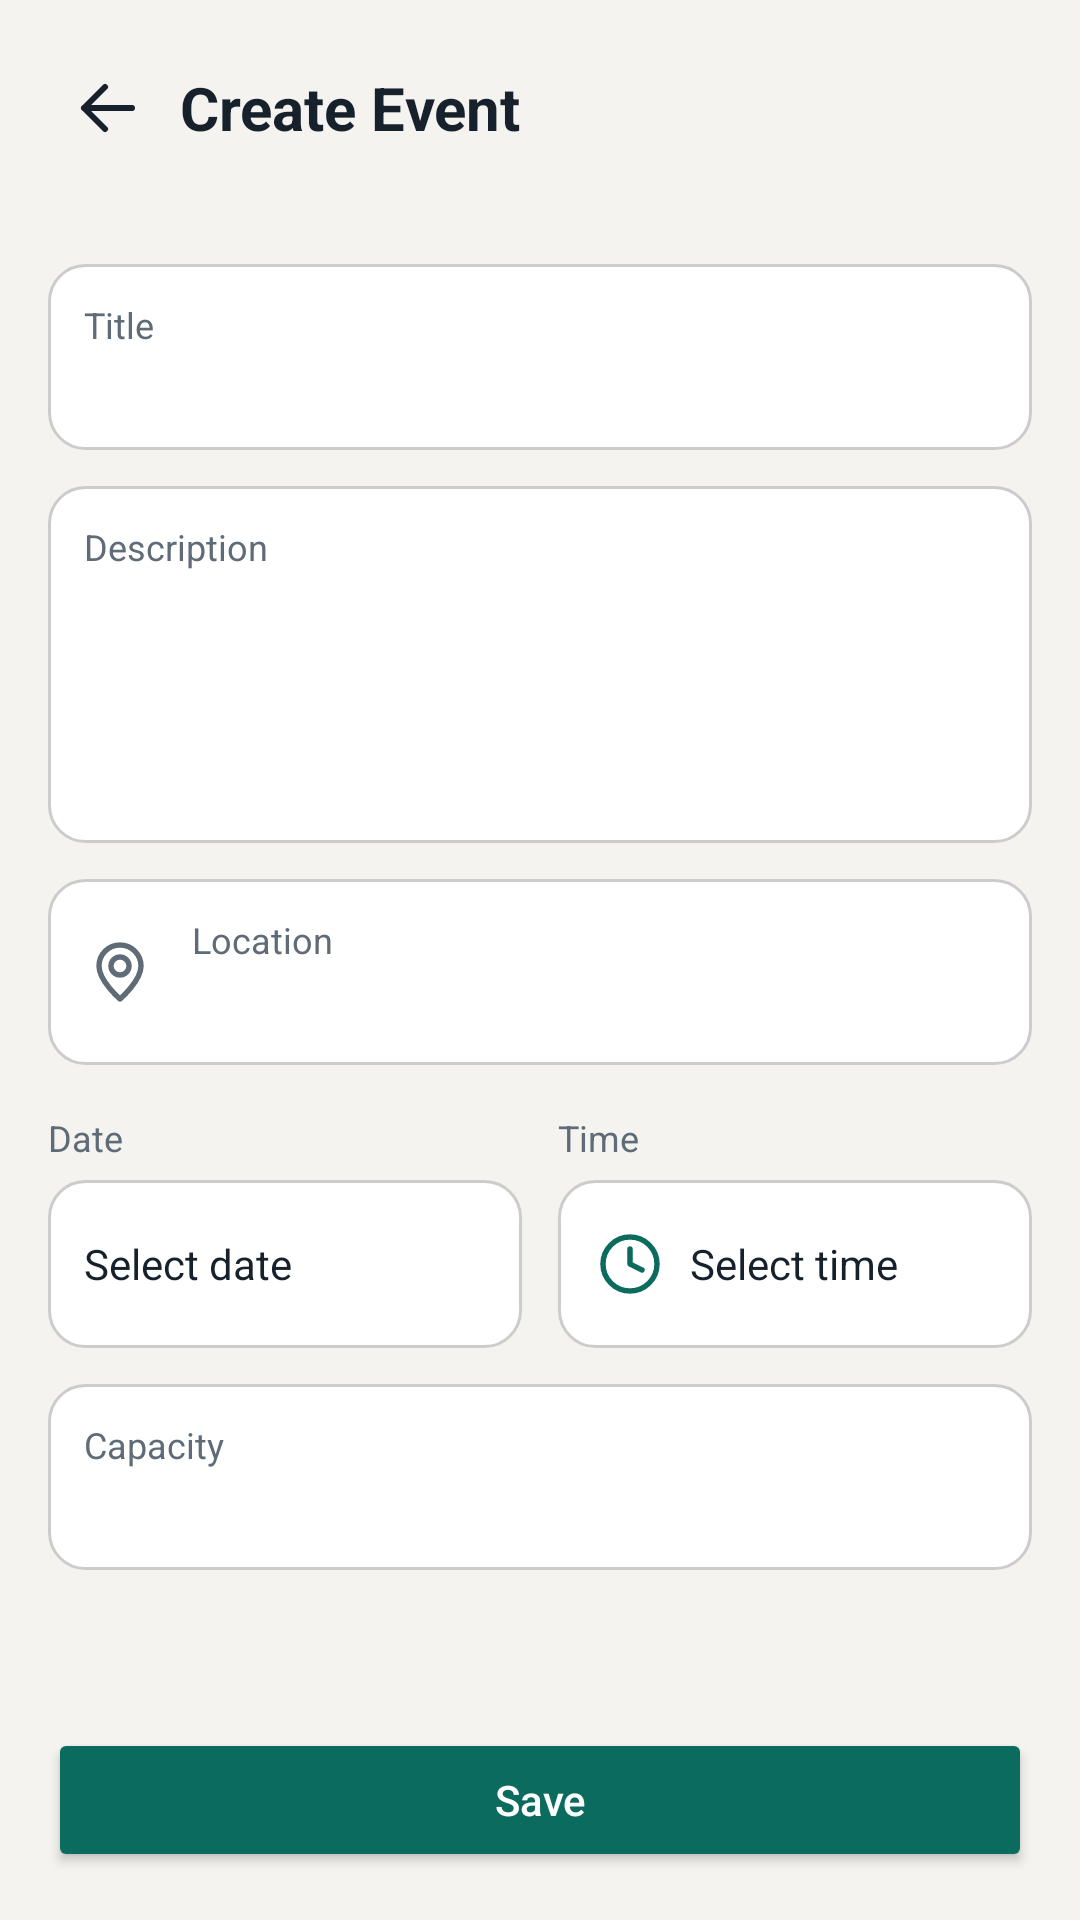

Icon bounding boxes for this 1080×1920 phone screenshot, format (x1, y1, x2, y2):
Back: (81, 84, 135, 132)
